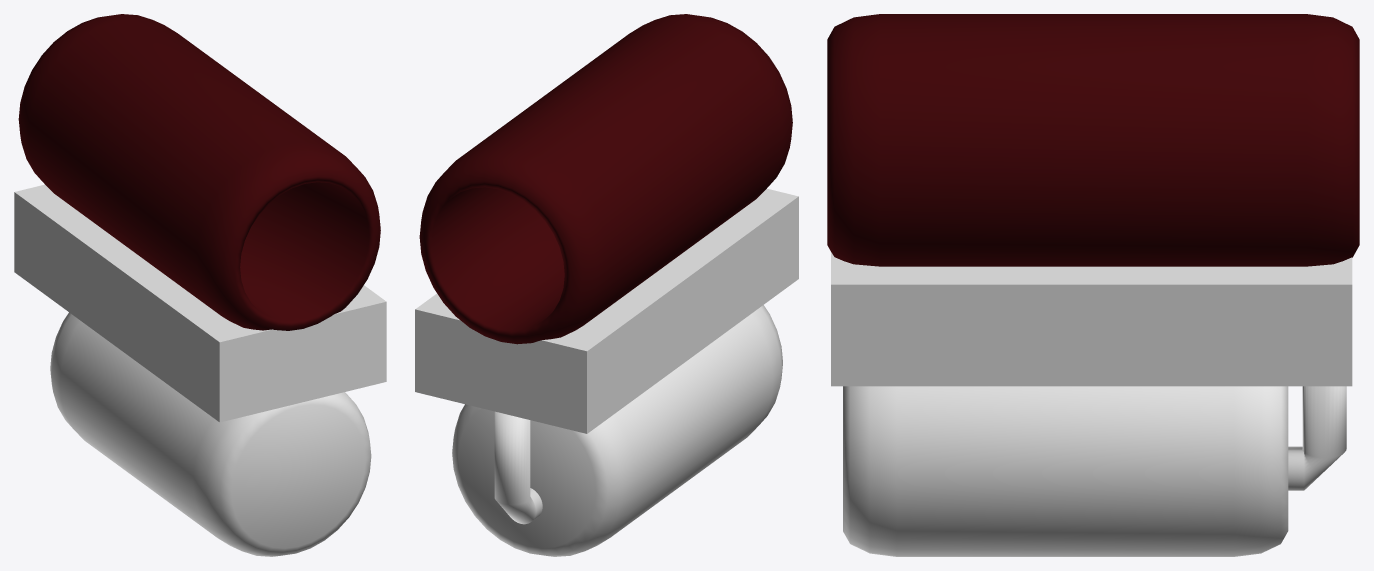
The model's file is PLSS.glb.
3 views of the same model, side by side, from view 1: azimuth 30°, elevation 25°; view 2: azimuth 150°, elevation 25°; view 3: azimuth 270°, elevation 25° (orthographic). The views are drawn at different scales.
Parts seen in each view (by area): view 1: Cylinder.002, Cylinder, Cube; view 2: Cylinder.002, Cube, Cylinder, Cylinder.001; view 3: Cylinder.002, Cylinder, Cube, Cylinder.001.
Boxes of the visible parts, <box> form: Cylinder.002: <box>18,14,380,330</box>; Cylinder: <box>50,312,371,556</box>; Cube: <box>14,184,386,422</box>; Cylinder.002: <box>419,14,792,344</box>; Cube: <box>415,188,798,433</box>; Cylinder: <box>452,305,782,556</box>; Cylinder.001: <box>494,411,542,524</box>; Cylinder.002: <box>827,14,1359,266</box>; Cylinder: <box>843,386,1288,556</box>; Cube: <box>831,252,1352,386</box>; Cylinder.001: <box>1288,386,1346,490</box>.
Bounding box in the file's own units: 0.9859 × 2.2 × 2.04.
